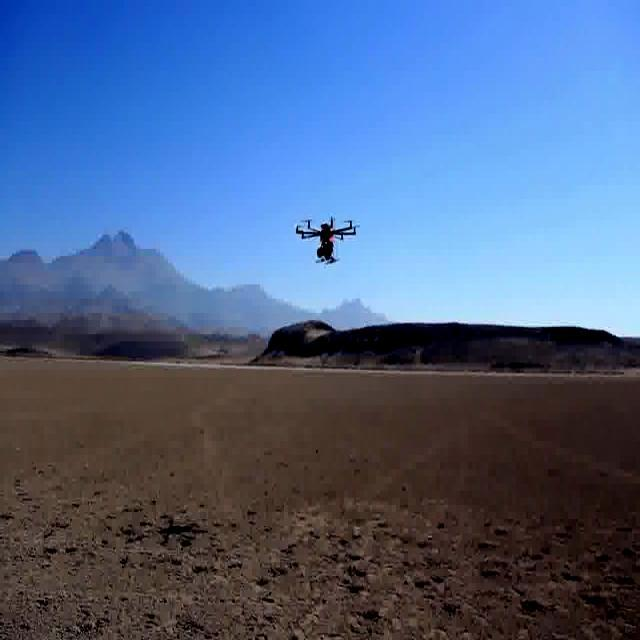drone: (293, 214, 359, 268)
